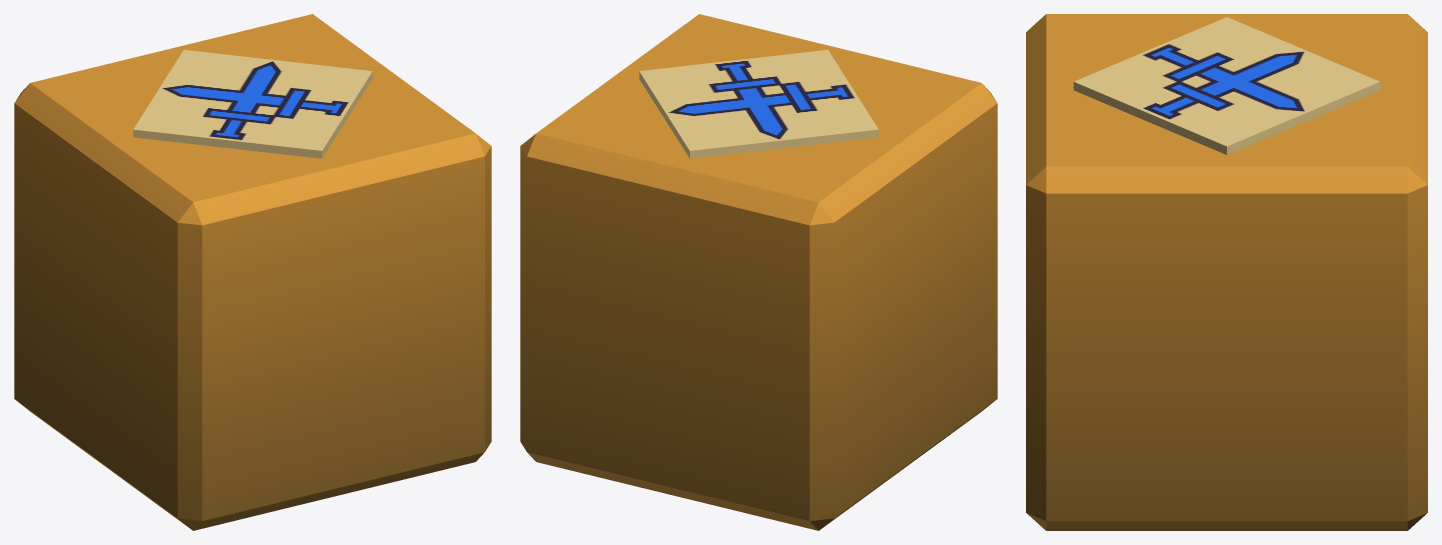
File: Tile_Attack_Gold.fbx
3 views of the same model, side by side, from view 1: azimuth 30°, elevation 25°; view 2: azimuth 150°, elevation 25°; view 3: azimuth 270°, elevation 25° (orthographic). The views are drawn at different scales.
Visible parts, largest first — view 1: Tile Putih Plate Speed.019; view 2: Tile Putih Plate Speed.019; view 3: Tile Putih Plate Speed.019.
Part boxes in pixels (box(x1,y1,x2,y2)): Tile Putih Plate Speed.019: box(14, 14, 491, 530); Tile Putih Plate Speed.019: box(520, 14, 997, 530); Tile Putih Plate Speed.019: box(1026, 14, 1427, 530).
Bounding box in the file's own units: 1 × 1.02 × 1.
1 material, 1 textured.
